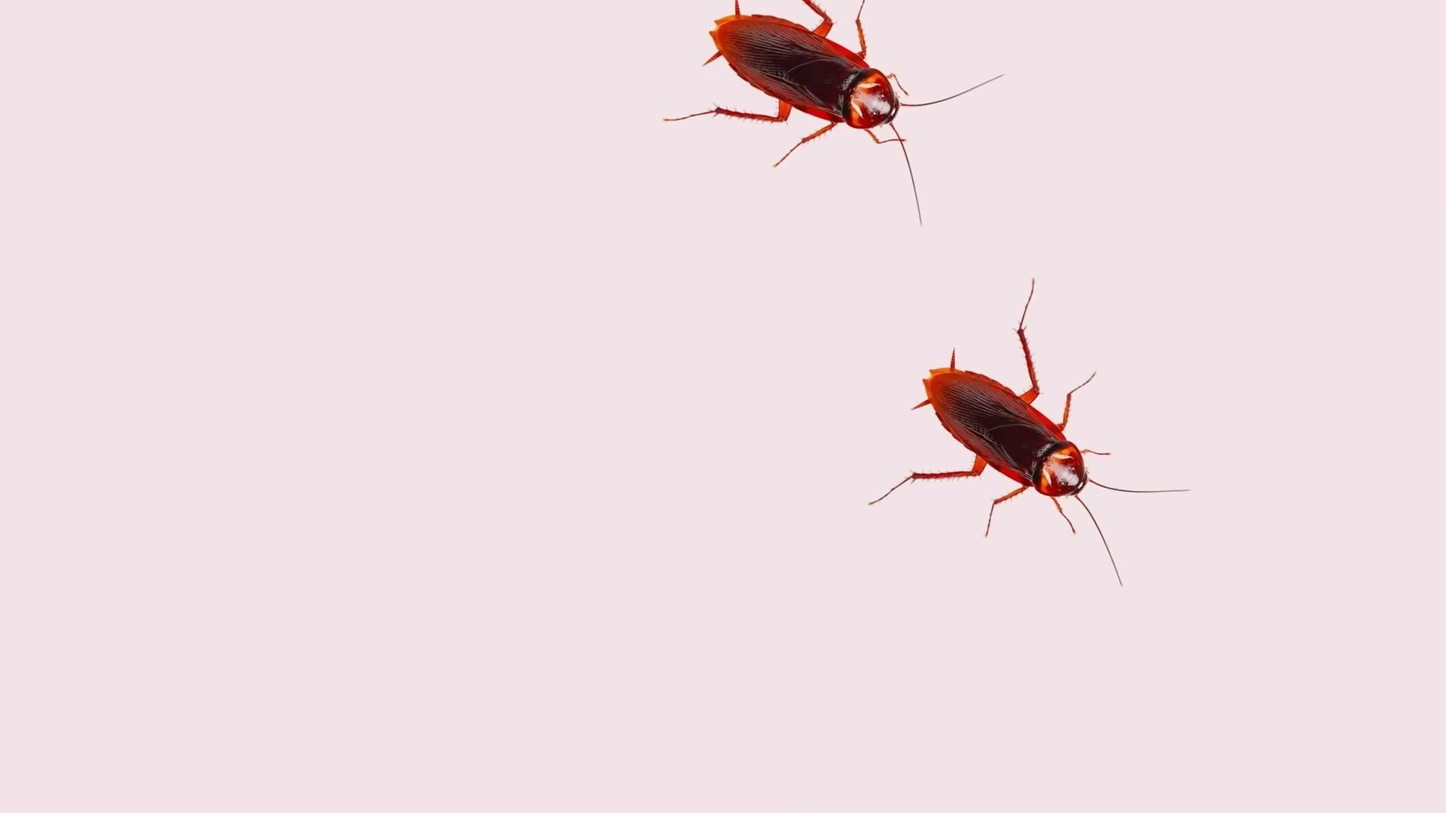cockroach: (874, 312, 1147, 581), (666, 1, 994, 206)
